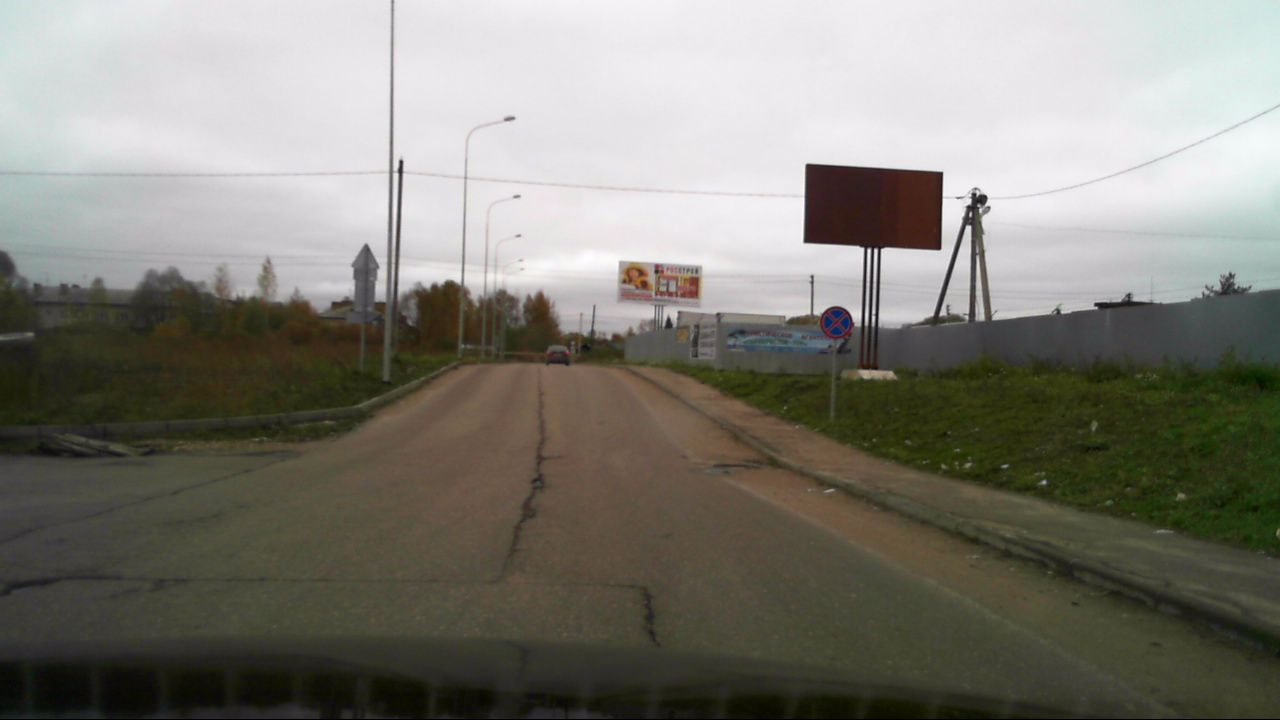No Parking: (818, 305, 854, 340)
